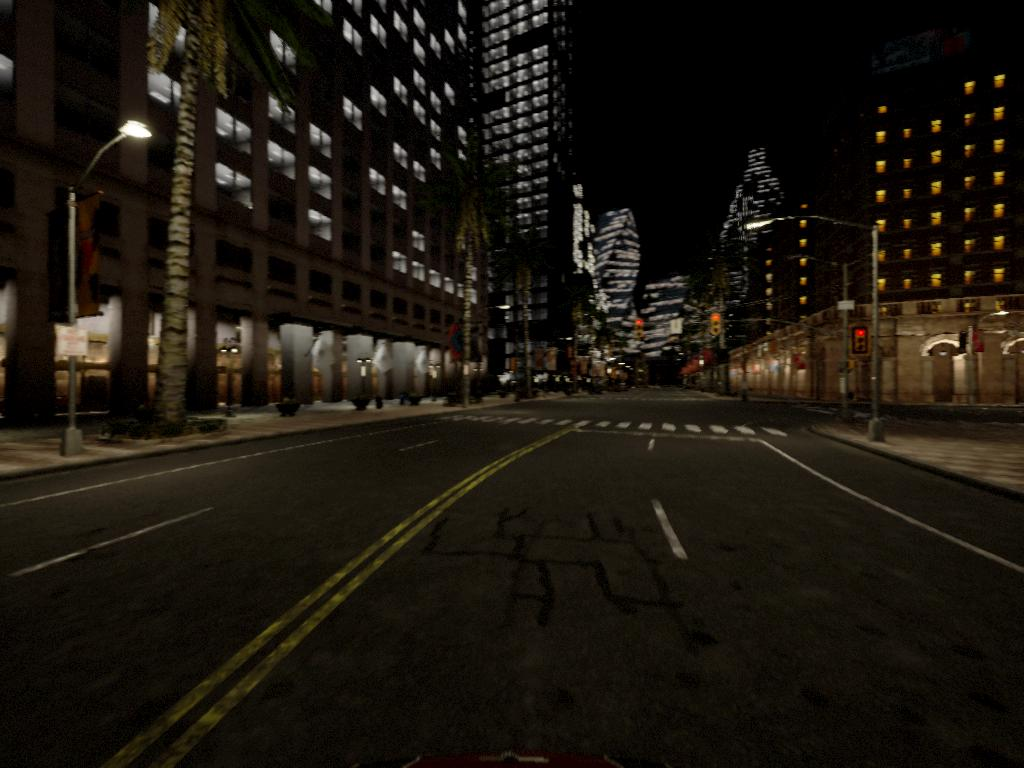traffic_light: (855, 327, 872, 352), (711, 315, 724, 337), (636, 320, 644, 338)
